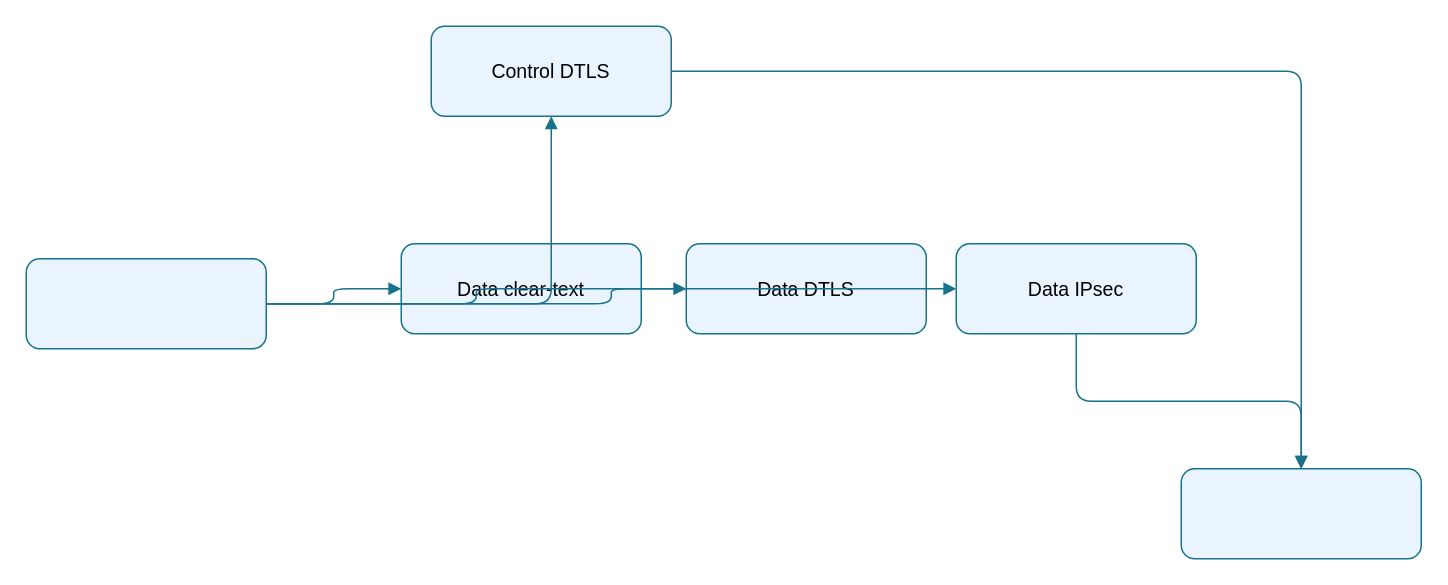
The diagram is 1448 pixels wide and 585 high, and some of its shapes have lost their labels. The shapes that lost their labels are listed below. From the top down, each one's box as (x1, y1, x2, y2) in pixels, then its label:
(25, 257, 266, 349): FortiAP
(1180, 467, 1421, 559): FortiGate controller
